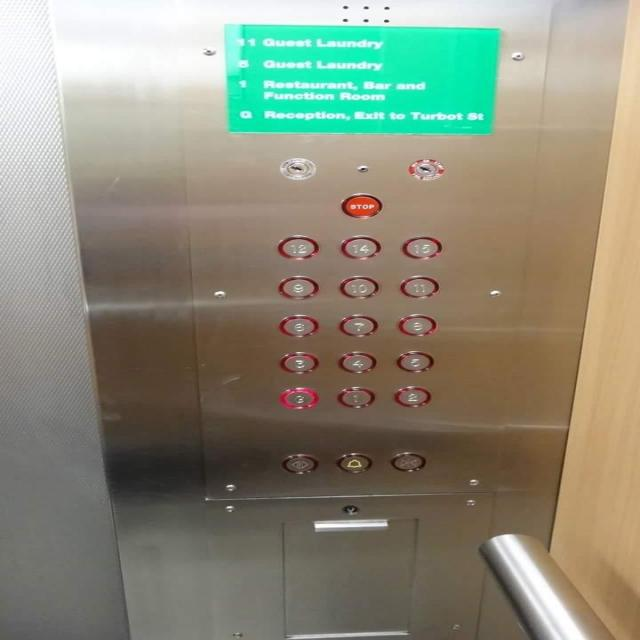1: (335, 386, 376, 410)
10: (337, 275, 379, 299)
11: (398, 274, 440, 300)
12: (274, 233, 321, 260)
14: (336, 234, 386, 260)
15: (398, 234, 447, 260)
2: (391, 386, 435, 408)
3: (278, 351, 318, 374)
4: (337, 351, 378, 373)
5: (394, 350, 434, 372)
6: (277, 314, 319, 338)
7: (337, 312, 379, 338)
8: (396, 314, 439, 336)
9: (275, 274, 319, 300)
G: (275, 388, 320, 410)
alarm: (335, 452, 373, 474)
close: (387, 451, 428, 473)
keyhole: (276, 157, 316, 181), (406, 158, 446, 182)
open: (277, 452, 320, 476)
text_stop: (340, 193, 388, 219)
